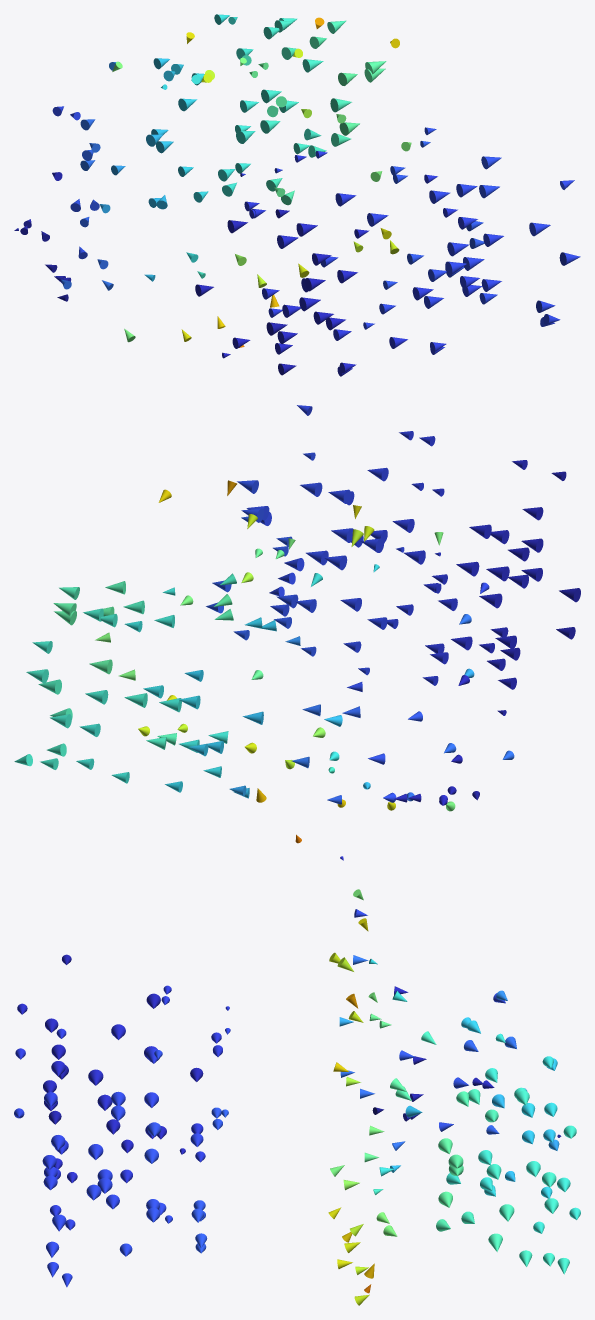
The model's file is LineasCorrienteN2-H2O_mh2-6.88_V-0.8.glb.
3 views of the same model, one above another, from view 1: azimuth 30°, elevation 25°; view 2: azimuth 150°, elevation 25°; view 3: azimuth 270°, elevation 25° (orthographic). The views are drawn at different scales.
Size of the model in its own units: 0.000986 by 0.00081 by 0.0012.
2 materials, 2 textured.
